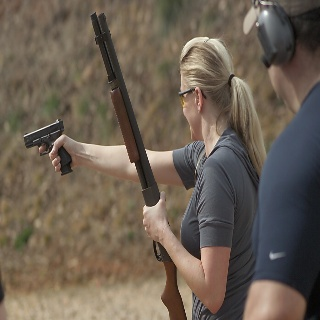pistol: (23, 117, 73, 176)
rifle: (89, 10, 188, 320)
